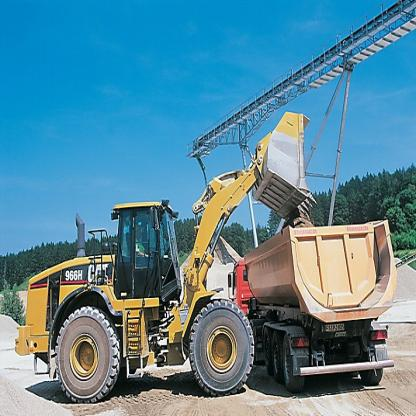bull_dozer/loader/grader: (13, 110, 312, 404)
dump_truck: (230, 219, 395, 410)
